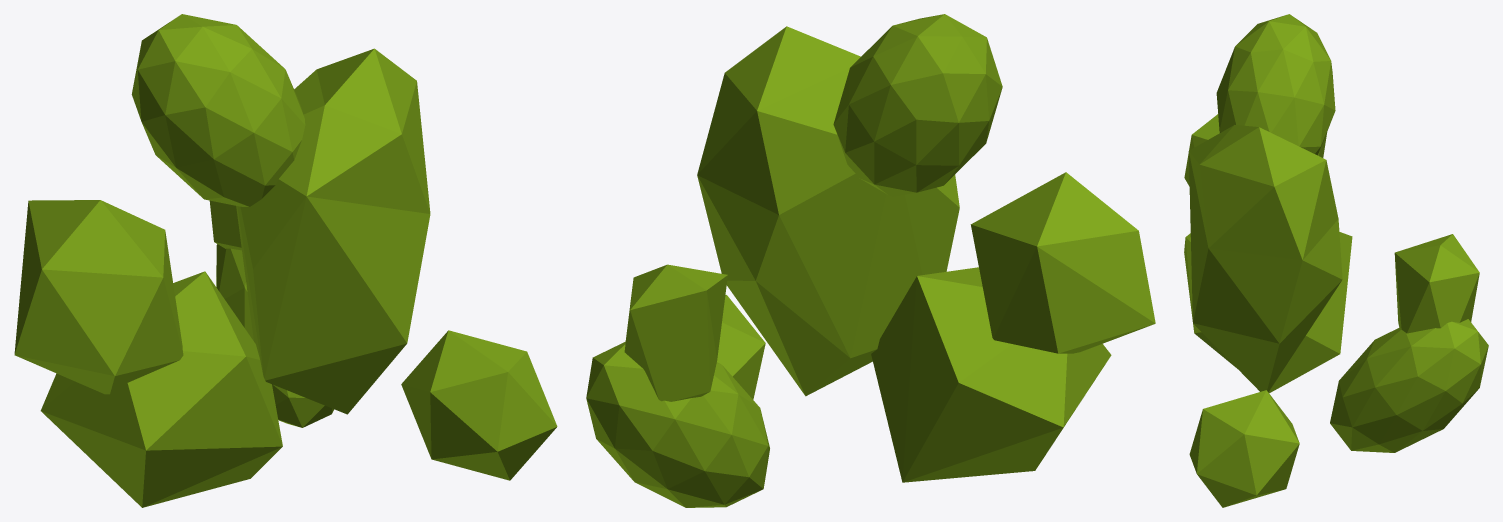
The model's file is tree-summer-leaves-1-040.glb.
The picture shows the model from 3 angles, left to right: view 1: azimuth 30°, elevation 25°; view 2: azimuth 150°, elevation 25°; view 3: azimuth 270°, elevation 25°; orthographic projection. The views are drawn at different scales.
Visible parts, largest first — view 1: TREE 1_279; view 2: TREE 1_279; view 3: TREE 1_279.
Part boxes in pixels (<box>): TREE 1_279: <box>14,14,557,507</box>; TREE 1_279: <box>586,14,1155,507</box>; TREE 1_279: <box>1184,14,1488,507</box>.
Size of the model in its own units: 1.17 by 1.08 by 0.7756.
